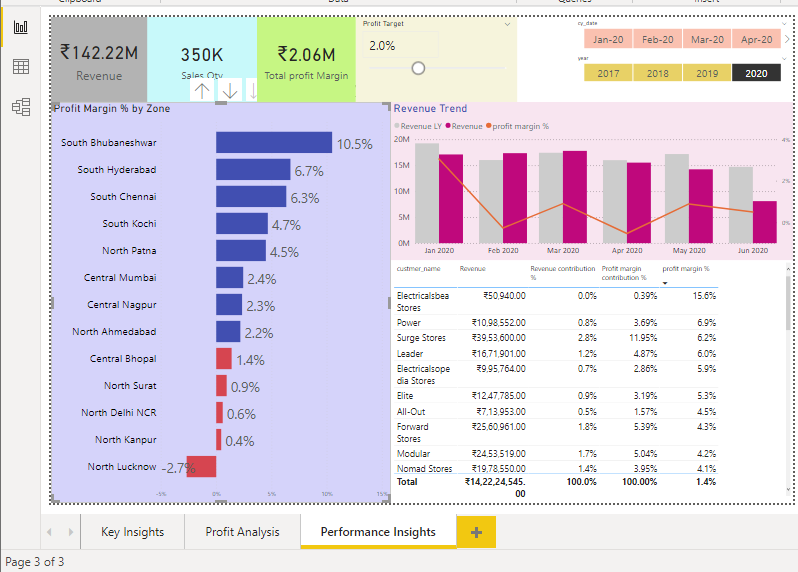

This screenshot's page, from the dashboard's own definition file:
{"tool":"powerbi","page":{"name":"Performance Insights","canvas":[1450,950],"ordinal":2},"visuals":[{"type":"card","fields":{"Values":["Base Measure.Sales Qty"]},"box":[187.6,0,215,166.1],"z":1000},{"type":"barChart","title":"Profit Margin % by Zone","fields":{"Category":["sales markets.zone","sales markets.markets_name","sales customers.custmer_name"],"Y":["Base Measure.profit margin %"]},"box":[0,166.1,664.4,783.6],"z":2000},{"type":"tableEx","title":"Top 5 customer","fields":{"Values":["sales customers.custmer_name","Base Measure.Revenue","Base Measure.Revenue contribution %","Base Measure.Profit margin contribution %","Base Measure.profit margin %"]},"box":[664.4,474.9,785.6,474.9],"z":3000},{"type":"slicer","fields":{"Values":["sales date.cy_date"]},"box":[1016.2,0,433.8,68.4],"z":4000},{"type":"lineClusteredColumnComboChart","title":"Revenue Trend","fields":{"Category":["sales date.cy_date"],"Y":["Base Measure.Revenue LY","Base Measure.Revenue"],"Y2":["Base Measure.profit margin %"]},"box":[664.4,166.1,785.6,308.8],"z":5000},{"type":"card","fields":{"Values":["Base Measure.Total profit Margin"]},"box":[402.6,0,193.5,166.1],"z":6000},{"type":"slicer","fields":{"Values":["sales date.year"]},"box":[1016.2,68.4,433.8,60.6],"z":7000},{"type":"slicer","fields":{"Values":["Profit Target.Profit Target"]},"box":[596,0,314.6,166.1],"z":8000},{"type":"card","fields":{"Values":["Base Measure.Revenue"]},"box":[0,0,187.6,166.1],"z":8001}]}

Visuals, with their boxes on the page's 1450x950 design canvas (x1, y1, x2, y2). These are canvas units, not pixel positions in the 798x572 screenshot, which may show the page scaled, cropped or inside an application window:
card - Base Measure.Sales Qty: [188, 0, 403, 166]
"Profit Margin % by Zone" barChart: [0, 166, 664, 950]
"Top 5 customer" tableEx: [664, 475, 1450, 950]
slicer - sales date.cy_date: [1016, 0, 1450, 68]
"Revenue Trend" lineClusteredColumnComboChart: [664, 166, 1450, 475]
card - Base Measure.Total profit Margin: [403, 0, 596, 166]
slicer - sales date.year: [1016, 68, 1450, 129]
slicer - Profit Target.Profit Target: [596, 0, 911, 166]
card - Base Measure.Revenue: [0, 0, 188, 166]
